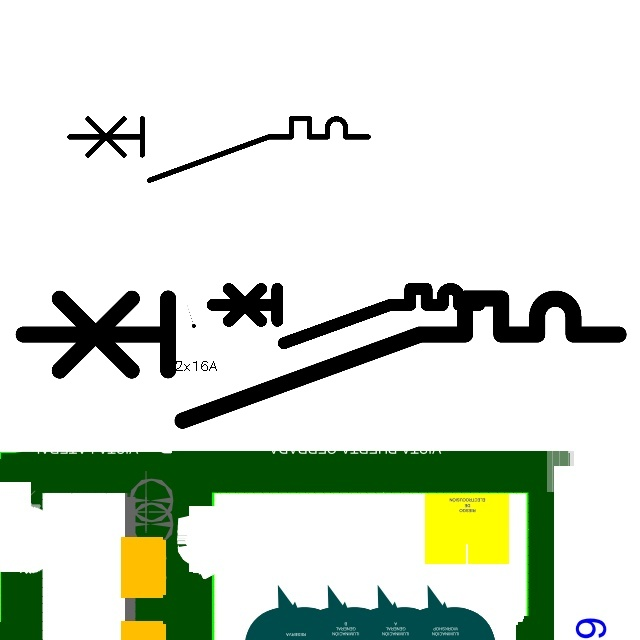interruptor_termomagnetico: (8, 283, 634, 436), (62, 111, 376, 188), (205, 282, 485, 350)
